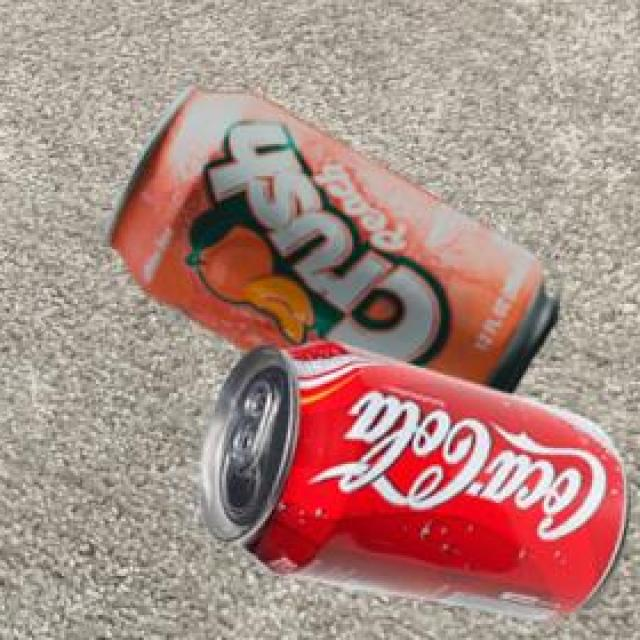logam: (99, 79, 557, 392), (198, 339, 627, 616)
